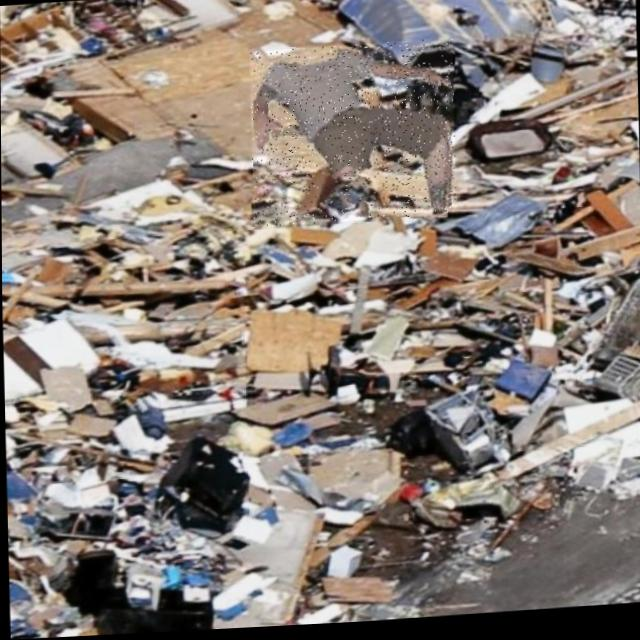Person in Rubble: (249, 42, 456, 230)
